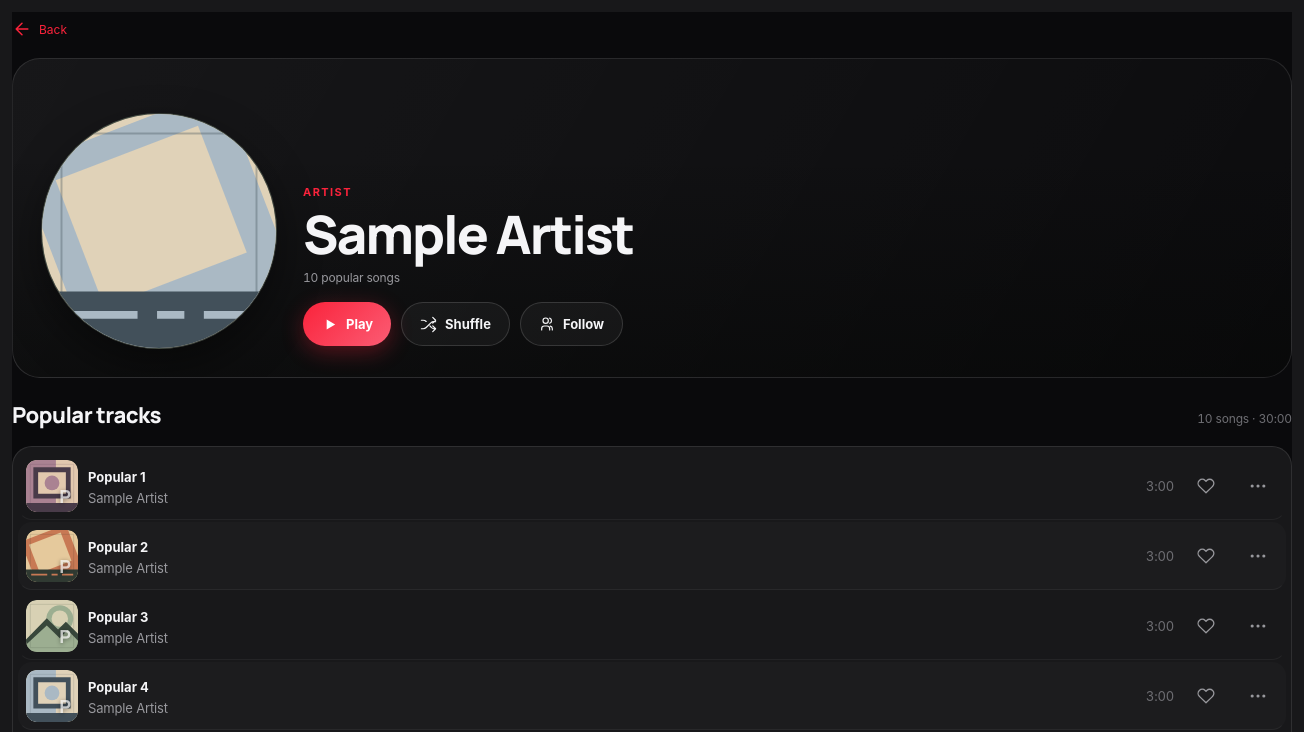
Test: collection pages › shows an artist popular list once and keeps albums in their own shelf
Expected: the heading "Sample Artist" is shown, top-left (303, 207), bottom-right (633, 262)
Step 1. Click the button "Follow" → (571, 324), box top-left (520, 302), bottom-right (623, 346)
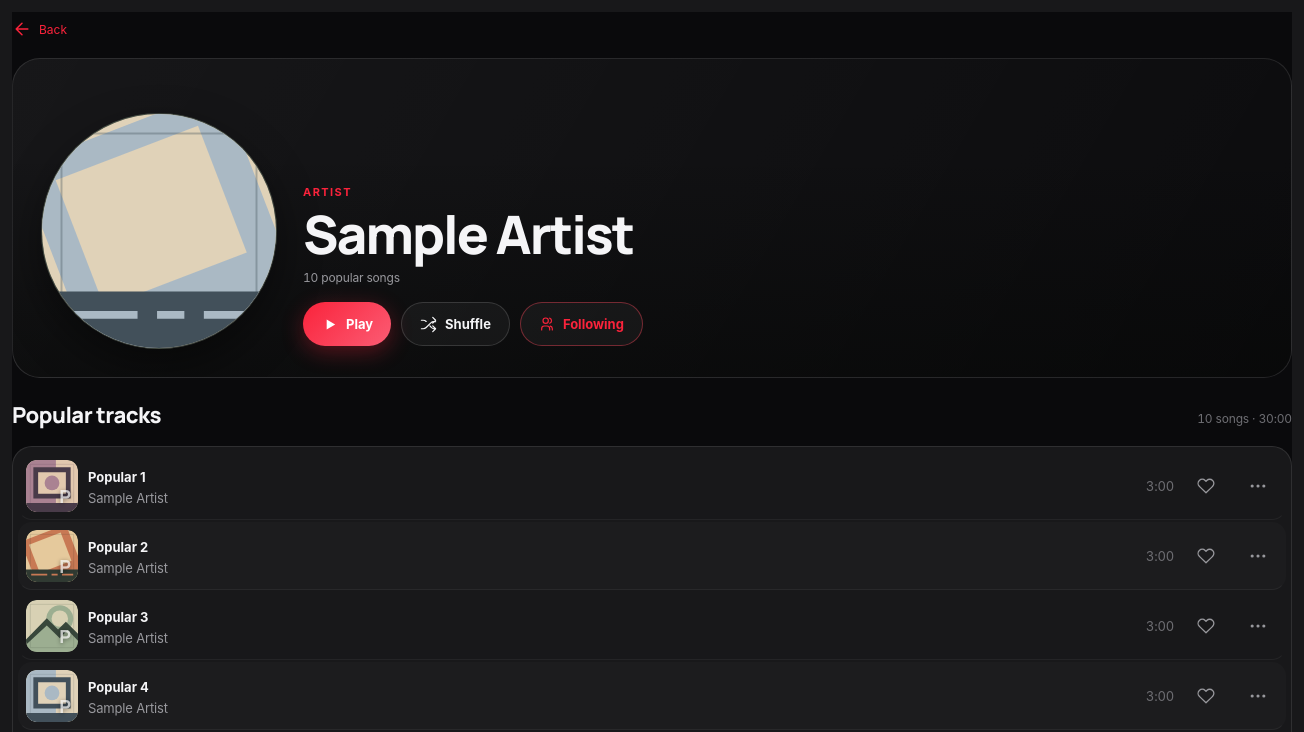
Result: the button "Following" is shown at top-left (520, 302), bottom-right (643, 346)
